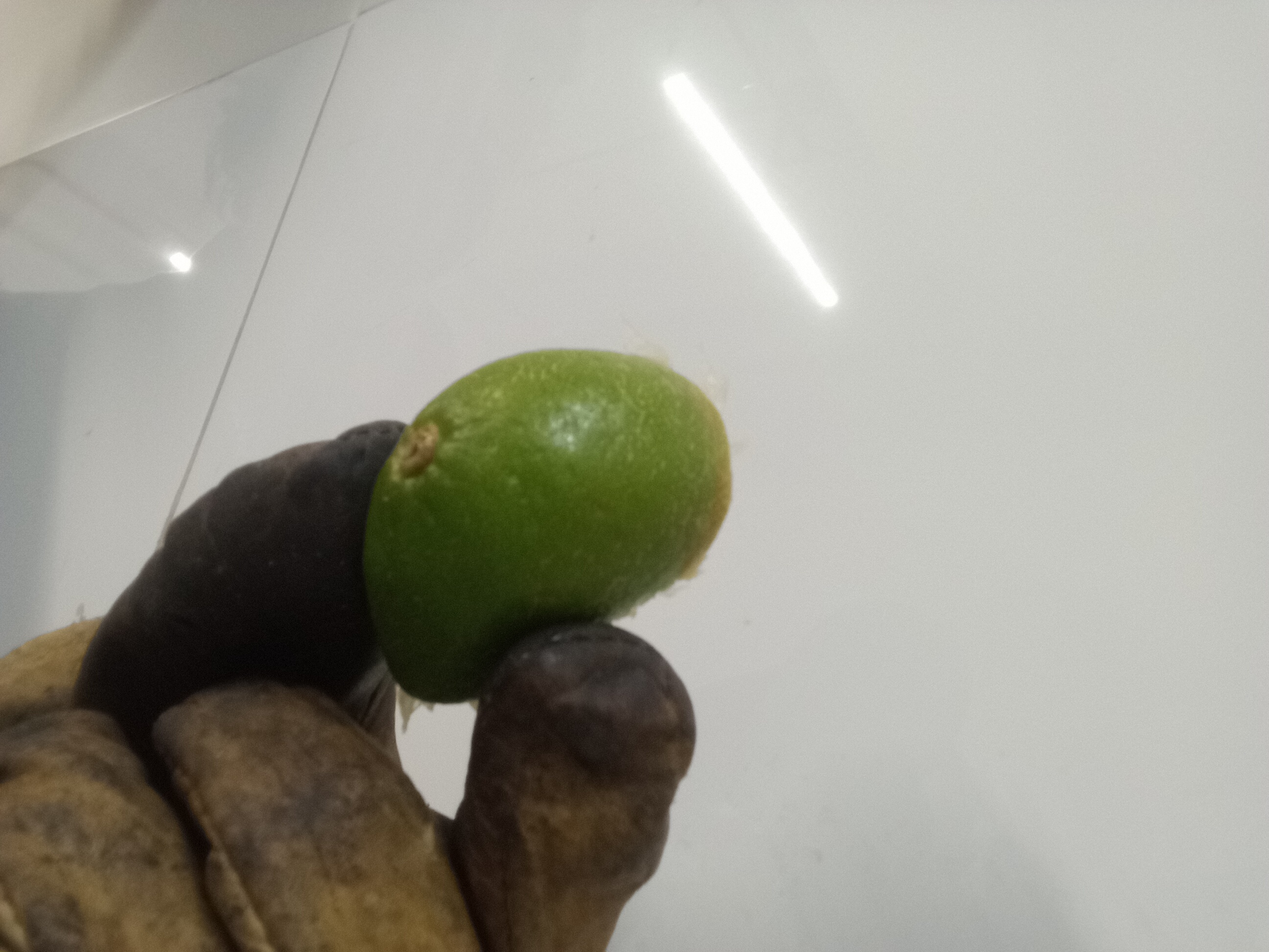Organico: (366, 343, 733, 702)
